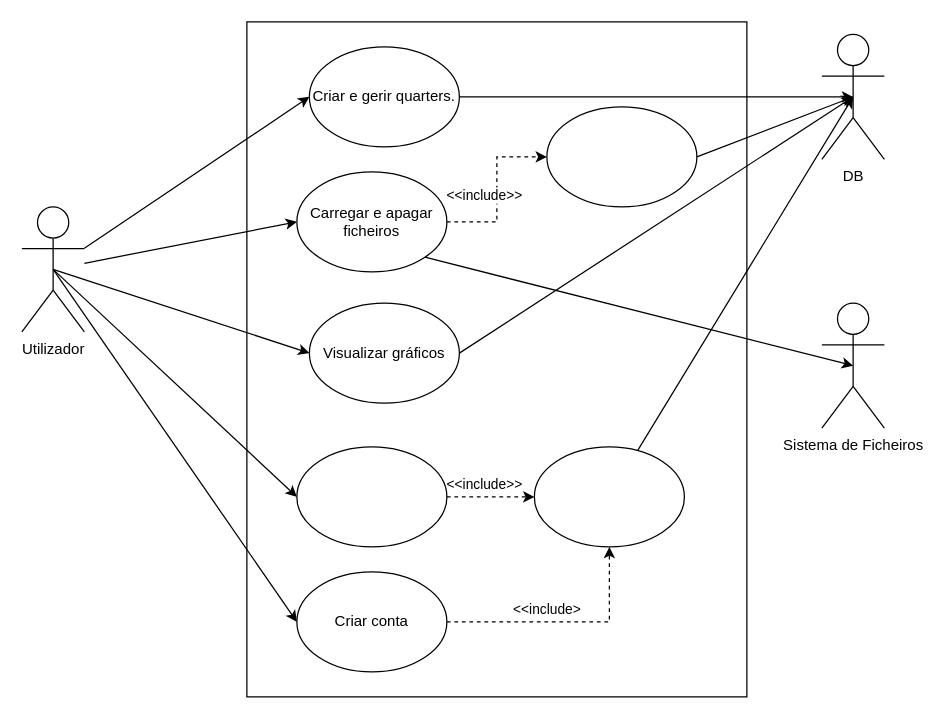
Image size: 945x719. Some labels were removed from this diagram. Each missing label, with the centre of its shape:
"Gestão de Utilizadores" goes at pixel 608 496.
"Iniciar e Terminar sessão" goes at pixel 371 496.
"Normalizar dados." goes at pixel 621 156.
